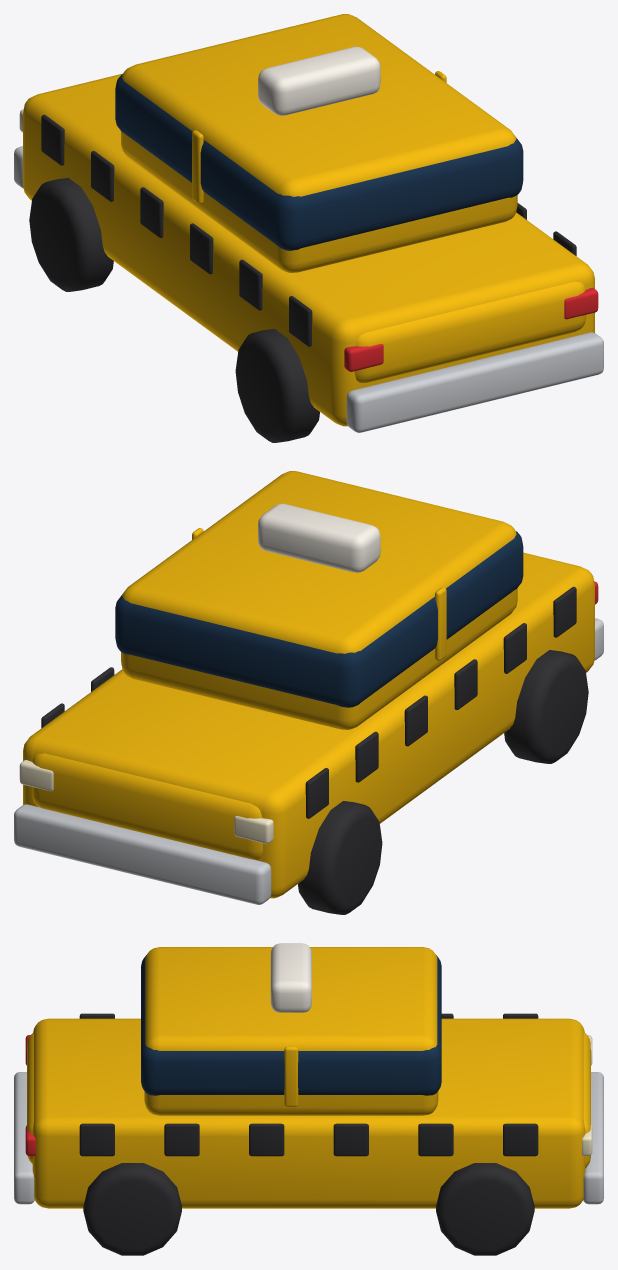
The model's file is taxi.glb.
The picture shows the model from 3 angles, top to bottom: view 1: azimuth 30°, elevation 25°; view 2: azimuth 150°, elevation 25°; view 3: azimuth 270°, elevation 25°; orthographic projection. The views are drawn at different scales.
Visible parts, largest first — view 1: Taxi_Body, Taxi_Cabin, Taxi_GlassBand, Taxi_BumpR, Taxi_Trunk, Wheel_0V_Taxi, Wheel_2V_Taxi, Taxi_Sign, Taxi_Check_-1_0, Taxi_Check_-1_2, Taxi_Check_-1_4, Taxi_Check_-1_3 (+5 smaller); view 2: Taxi_Body, Taxi_Cabin, Taxi_GlassBand, Taxi_Hood, Taxi_BumpF, Wheel_2V_Taxi, Wheel_0V_Taxi, Taxi_Sign, Taxi_Check_-1_1, Taxi_Check_-1_5, Taxi_Check_-1_3, Taxi_Check_-1_2 (+5 smaller); view 3: Taxi_Body, Taxi_Cabin, Taxi_GlassBand, Wheel_1V_Taxi, Wheel_3V_Taxi, Taxi_Sign, Taxi_BumpR, Taxi_BumpF, Taxi_Check_+1_2, Taxi_Check_+1_3, Taxi_Check_+1_0, Taxi_Check_+1_5 (+5 smaller).
Boxes of the visible parts, bbox=[...] form: Taxi_Body: bbox=[23, 73, 594, 426]; Taxi_Cabin: bbox=[121, 14, 517, 272]; Taxi_GlassBand: bbox=[115, 74, 523, 250]; Taxi_BumpR: bbox=[346, 332, 603, 432]; Taxi_Trunk: bbox=[354, 281, 586, 382]; Wheel_0V_Taxi: bbox=[29, 177, 113, 291]; Wheel_2V_Taxi: bbox=[235, 329, 319, 442]; Taxi_Sign: bbox=[258, 46, 380, 115]; Taxi_Check_-1_0: bbox=[41, 114, 64, 165]; Taxi_Check_-1_2: bbox=[140, 187, 163, 237]; Taxi_Check_-1_4: bbox=[239, 259, 262, 310]; Taxi_Check_-1_3: bbox=[190, 223, 213, 274]; Taxi_Body: bbox=[23, 552, 594, 898]; Taxi_Cabin: bbox=[121, 471, 517, 729]; Taxi_GlassBand: bbox=[115, 531, 523, 707]; Taxi_Hood: bbox=[32, 753, 262, 860]; Taxi_BumpF: bbox=[14, 804, 271, 904]; Wheel_2V_Taxi: bbox=[504, 650, 588, 763]; Wheel_0V_Taxi: bbox=[298, 801, 382, 914]; Taxi_Sign: bbox=[258, 503, 380, 572]; Taxi_Check_-1_1: bbox=[355, 731, 378, 782]; Taxi_Check_-1_5: bbox=[553, 586, 576, 637]; Taxi_Check_-1_3: bbox=[454, 659, 477, 709]; Taxi_Check_-1_2: bbox=[404, 695, 427, 746]; Taxi_Body: bbox=[32, 1018, 585, 1208]; Taxi_Cabin: bbox=[144, 947, 438, 1115]; Taxi_GlassBand: bbox=[141, 955, 441, 1095]; Wheel_1V_Taxi: bbox=[436, 1163, 534, 1255]; Wheel_3V_Taxi: bbox=[83, 1163, 181, 1255]; Taxi_Sign: bbox=[270, 943, 311, 1012]; Taxi_BumpR: bbox=[14, 1072, 34, 1204]; Taxi_BumpF: bbox=[583, 1072, 603, 1204]; Taxi_Check_+1_2: bbox=[333, 1123, 368, 1156]; Taxi_Check_+1_3: bbox=[249, 1123, 284, 1156]; Taxi_Check_+1_0: bbox=[503, 1123, 538, 1156]; Taxi_Check_+1_5: bbox=[79, 1123, 114, 1156].
Size of the model in its own units: 2.56 by 2.19 by 5.02.
